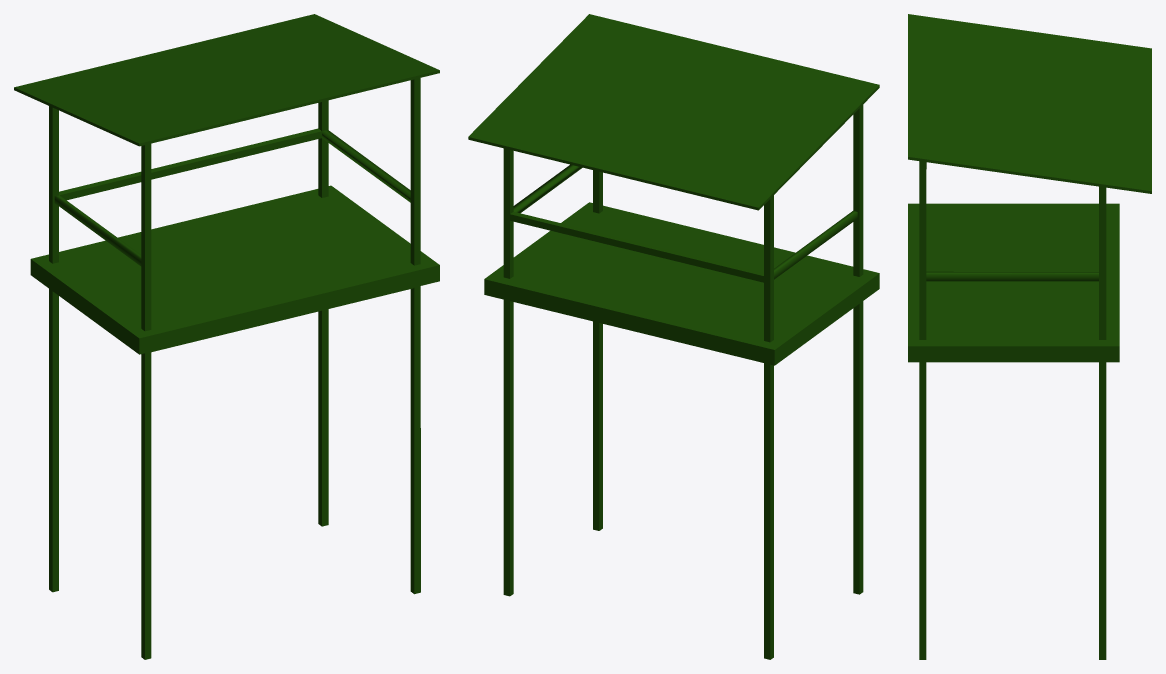
File: T2_CamHut02.fbx
The picture shows the model from 3 angles, left to right: view 1: azimuth 30°, elevation 25°; view 2: azimuth 150°, elevation 25°; view 3: azimuth 270°, elevation 25°; orthographic projection. The views are drawn at different scales.
Visible parts, largest first — view 1: T2_CamHut02; view 2: T2_CamHut02; view 3: T2_CamHut02.
Boxes of the visible parts, x1,y1,x2,y2 form: T2_CamHut02: (14, 14, 439, 659); T2_CamHut02: (468, 14, 879, 659); T2_CamHut02: (908, 14, 1151, 659).
Bounding box in the file's own units: 1.87 × 3.11 × 1.35.
